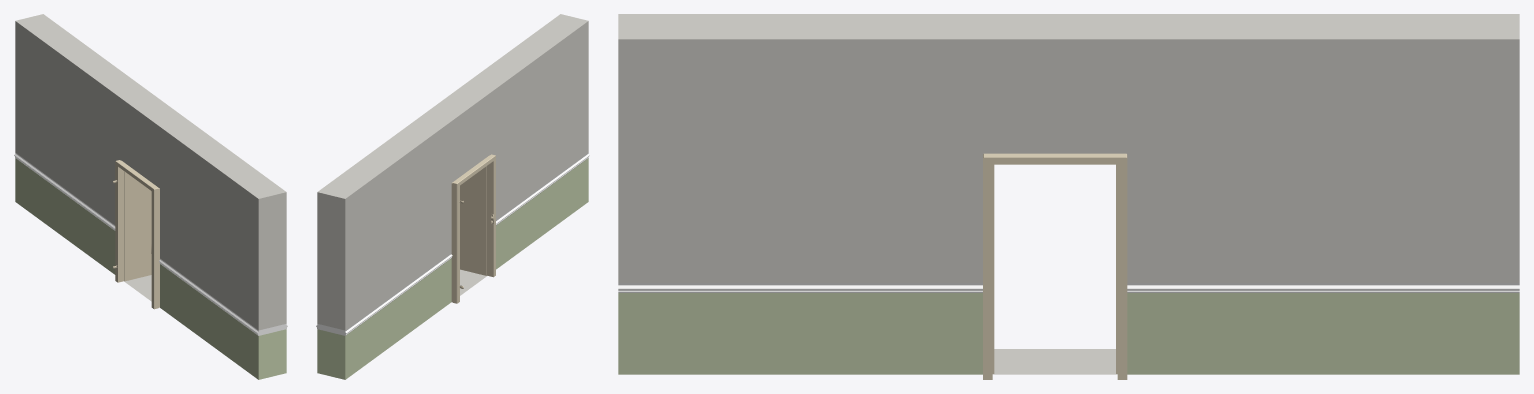
Rendered from wall_door.fbx.
The picture shows the model from 3 angles, left to right: view 1: azimuth 30°, elevation 25°; view 2: azimuth 150°, elevation 25°; view 3: azimuth 270°, elevation 25°; orthographic projection. The views are drawn at different scales.
Parts seen in each view (by area): view 1: Wall_Door; view 2: Wall_Door; view 3: Wall_Door.
Boxes of the visible parts, x1,y1,x2,y2 form: Wall_Door: [14, 14, 287, 379]; Wall_Door: [316, 14, 589, 379]; Wall_Door: [618, 14, 1519, 379].
Bounding box in the file's own units: 158 × 616 × 1500.
